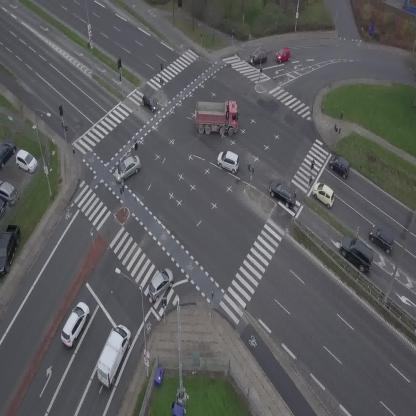car: (333, 232, 380, 275), (57, 299, 95, 349), (141, 264, 179, 303), (264, 176, 301, 212), (365, 222, 401, 256), (109, 152, 145, 184), (308, 178, 340, 210), (214, 147, 243, 175), (326, 152, 354, 178), (138, 91, 161, 114), (247, 50, 269, 66), (273, 46, 292, 64)
lorry: (90, 322, 135, 389), (196, 100, 239, 137)
